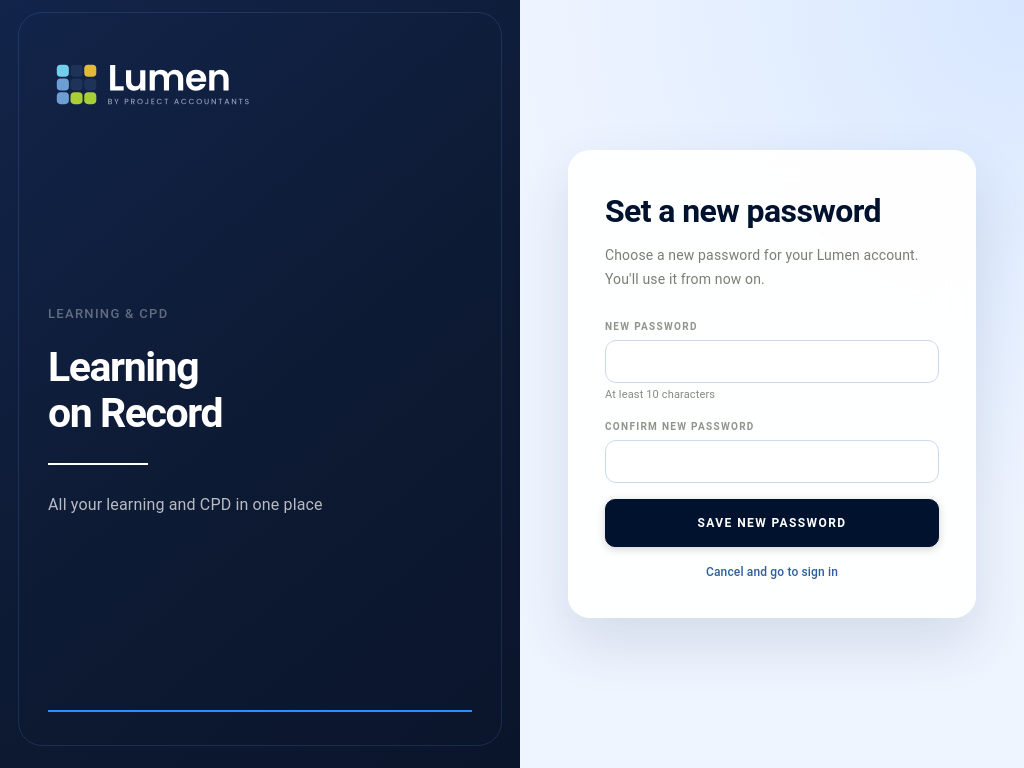
Test case: Set a new password (from a reset link) › saves the new password and confirms it
The image size is (1024, 768).
In the password field labelled "New password": (772, 361) 605,340 -> 939,383, type "a-brand-new-pass"
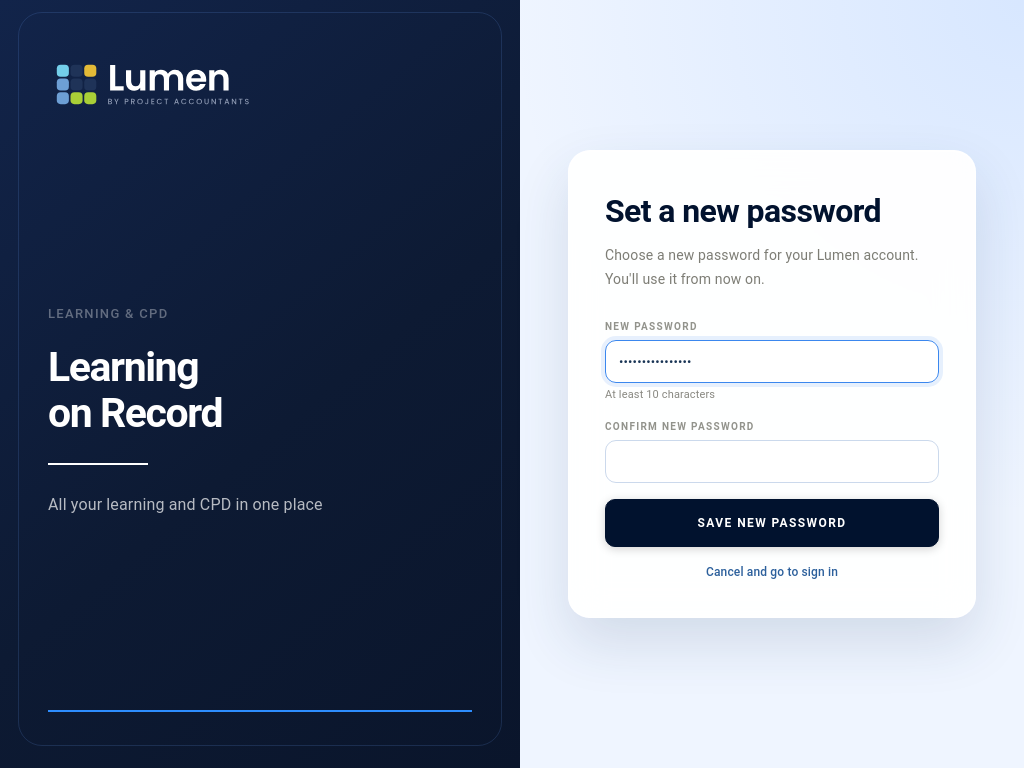
In the password field labelled "Confirm new password": (772, 462) 605,440 -> 939,483, type "a-brand-new-pass"
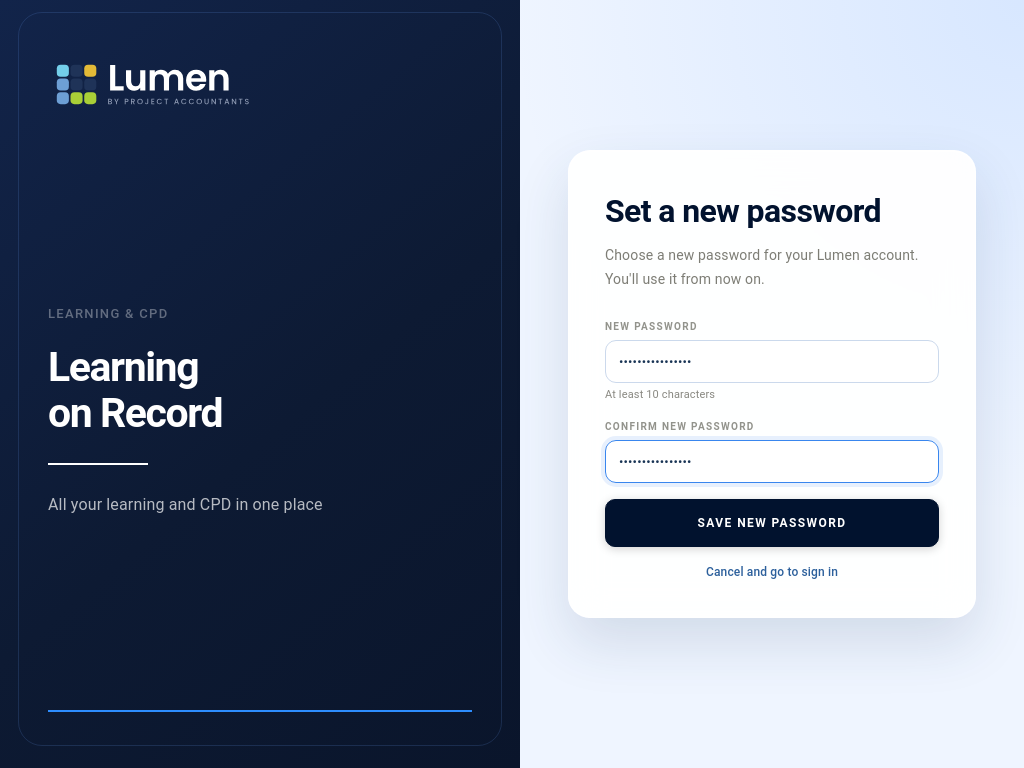
Click the button "Save new password": (772, 523) 605,499 -> 939,547
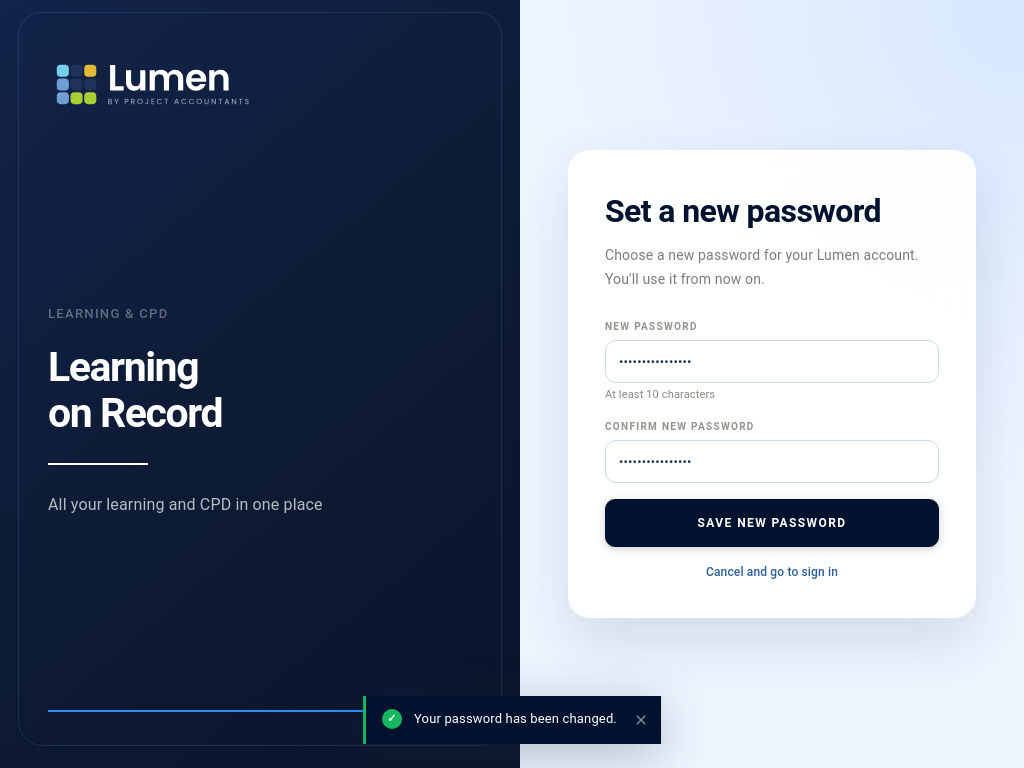
Expected: the text "Your password has been changed." is shown, 414,708 -> 617,729
